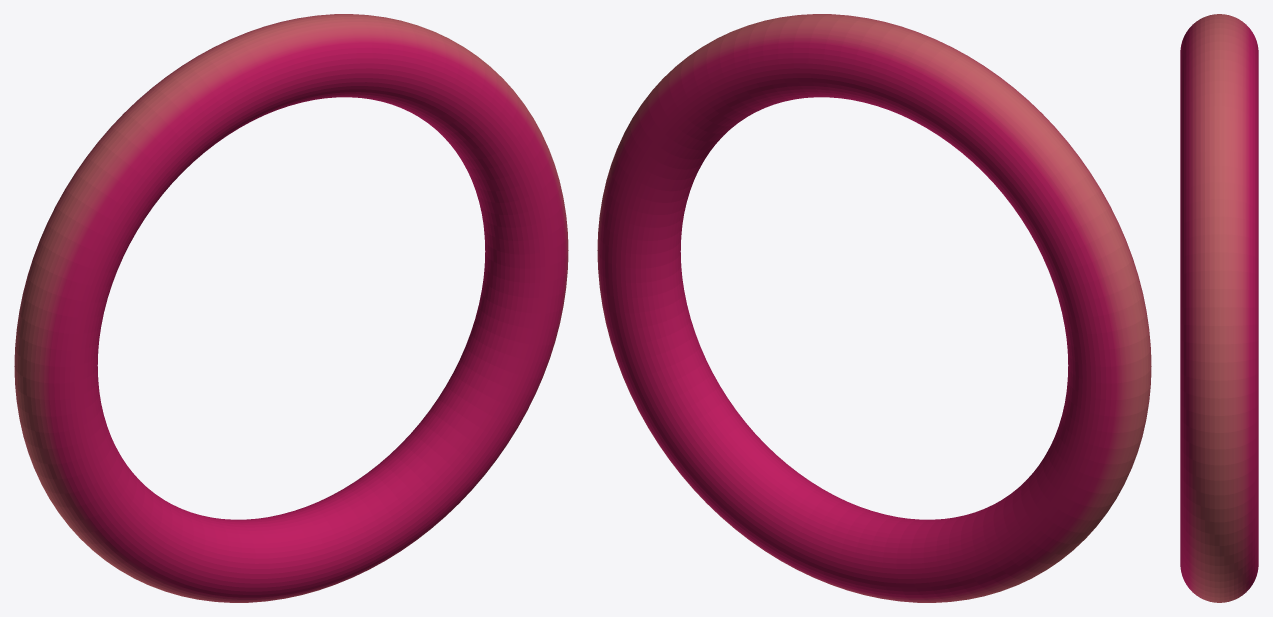
3 views of the same model, side by side, from view 1: azimuth 30°, elevation 25°; view 2: azimuth 150°, elevation 25°; view 3: azimuth 270°, elevation 25° (orthographic). The views are drawn at different scales.
Visible parts, largest first — view 1: world; view 2: world; view 3: world.
Part boxes in pixels (<box>): world: <box>14,14,568,602</box>; world: <box>597,14,1151,602</box>; world: <box>1180,14,1258,602</box>.
Size of the model in its own units: 23.07 by 23.07 by 3.06.
